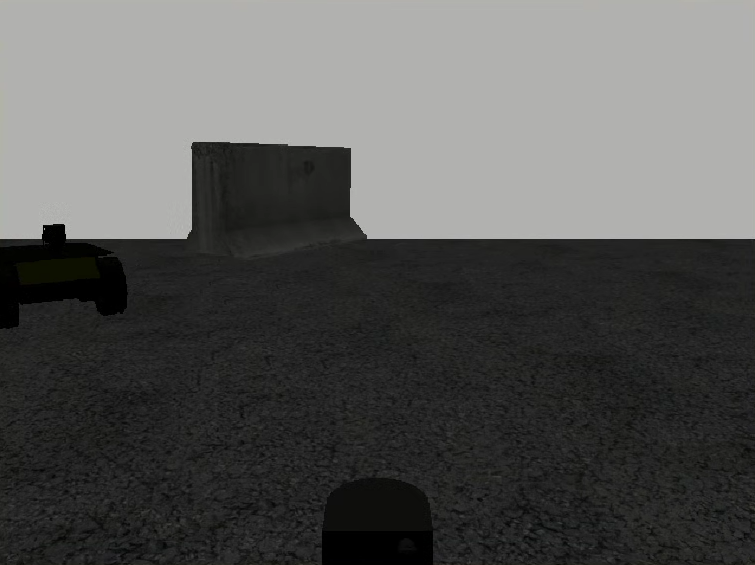husky: (1, 243, 129, 329)
